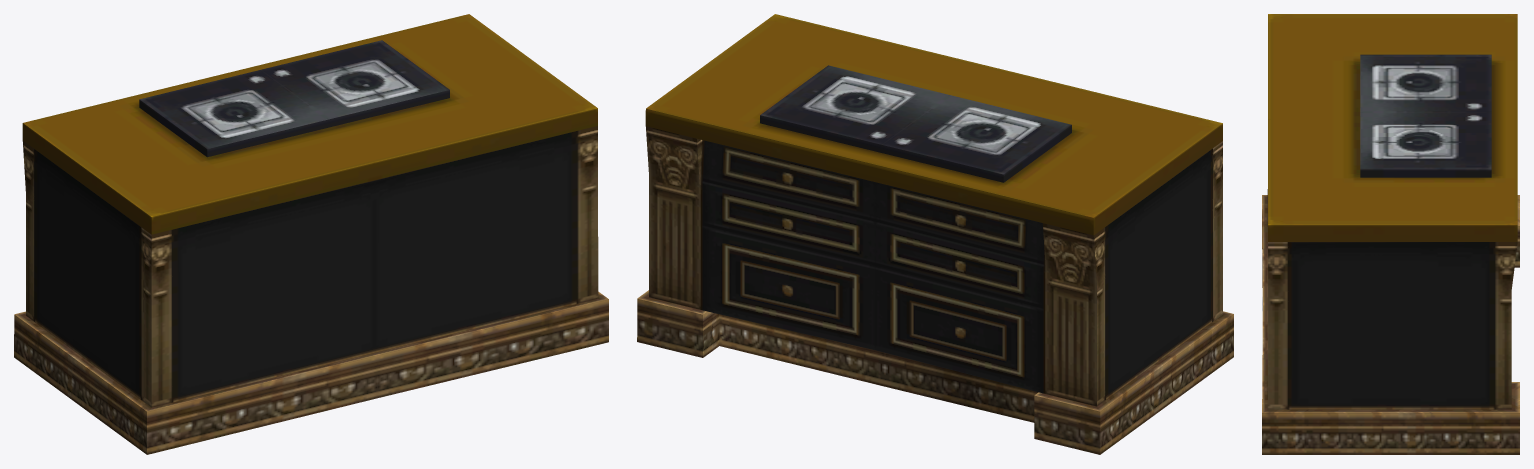
File: furni_0200319_03.FBX
3 renders of one model, left to right at view 1: azimuth 30°, elevation 25°; view 2: azimuth 150°, elevation 25°; view 3: azimuth 270°, elevation 25°, orthographic. The views are drawn at different scales.
Visible parts, largest first — view 1: furni_0200319_03; view 2: furni_0200319_03; view 3: furni_0200319_03.
Part boxes in pixels (left/top/right/bottom): furni_0200319_03: left=14, top=14, right=608, bottom=454; furni_0200319_03: left=637, top=14, right=1233, bottom=454; furni_0200319_03: left=1262, top=14, right=1519, bottom=454.
Size of the model in its own units: 165 by 82.8 by 82.62.
